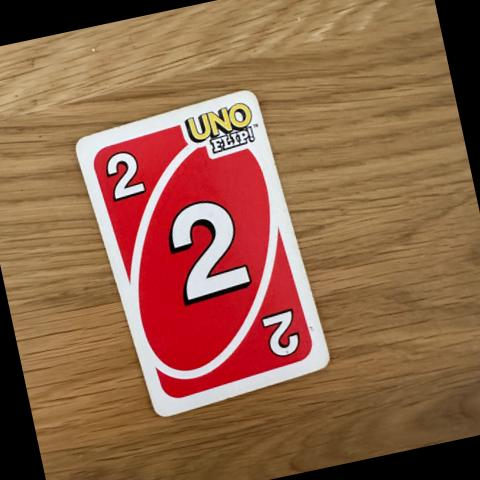8_red: (166, 196, 253, 301), (101, 146, 148, 202), (261, 307, 302, 359)
